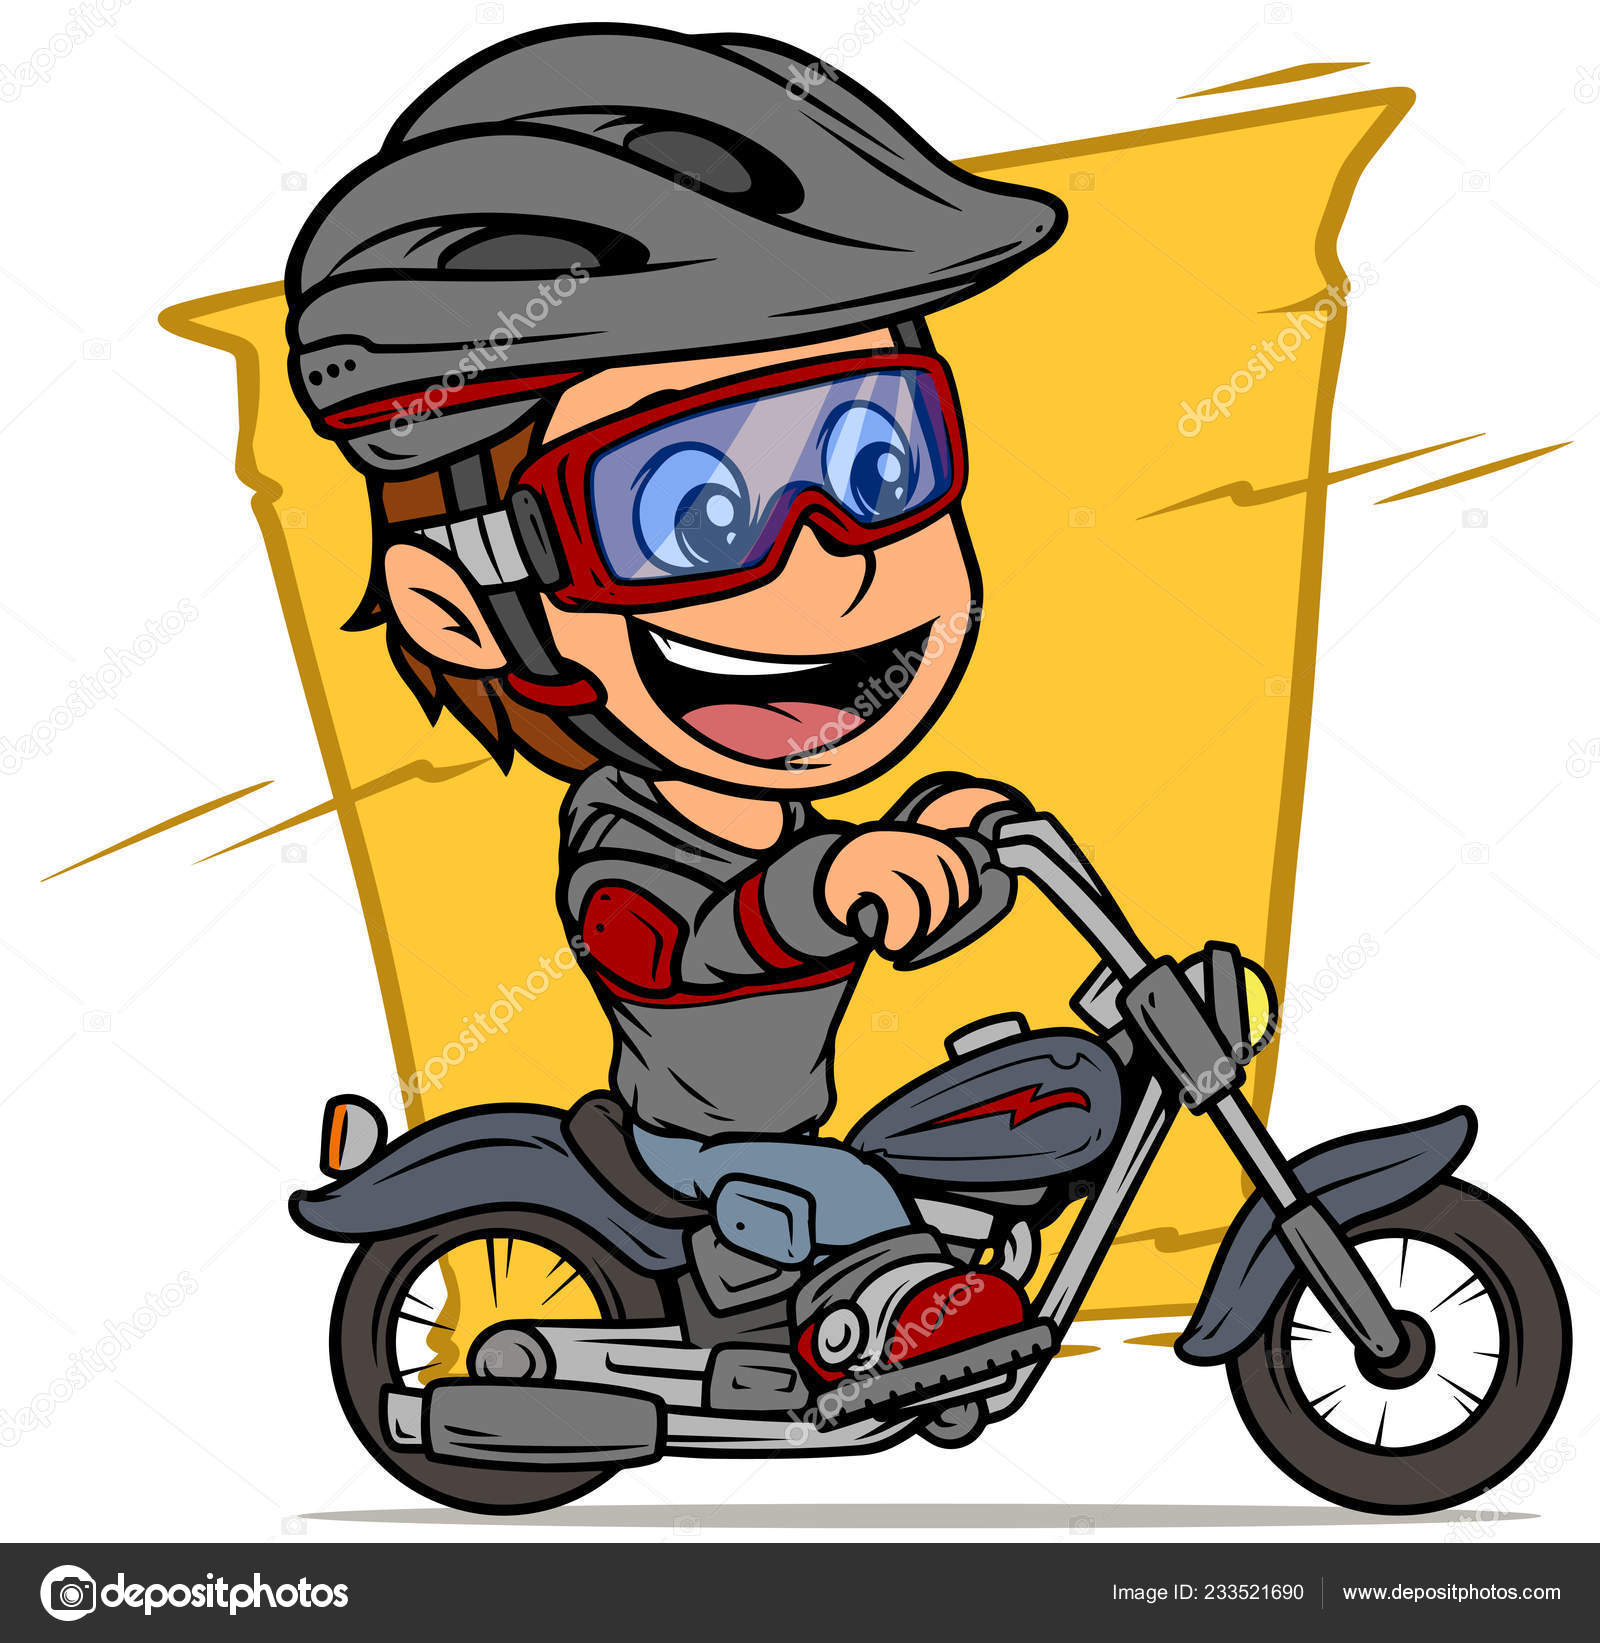with_helmet: (274, 4, 1103, 449)
